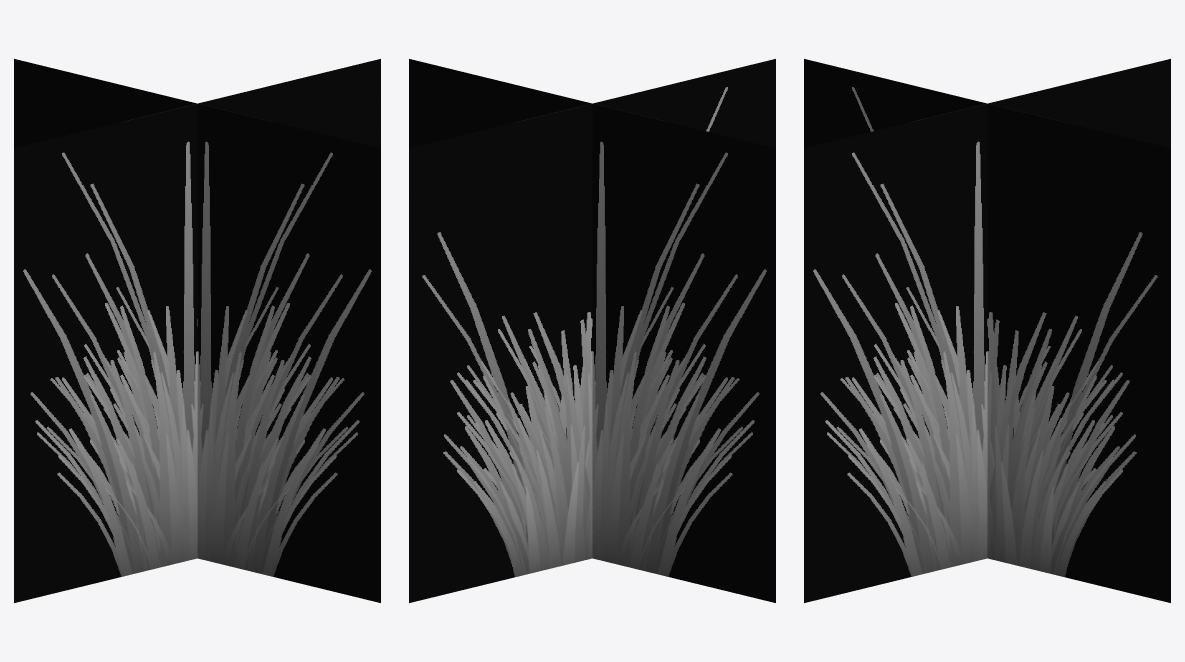
File: Blade_Sedge.glb
The picture shows the model from 3 angles, left to right: view 1: azimuth 30°, elevation 25°; view 2: azimuth 150°, elevation 25°; view 3: azimuth 270°, elevation 25°; orthographic projection.
Parts seen in each view (by area): view 1: Blade_Sedge; view 2: Blade_Sedge; view 3: Blade_Sedge.
Boxes of the visible parts, x1,y1,x2,y2 form: Blade_Sedge: (14, 59, 380, 602); Blade_Sedge: (409, 59, 775, 602); Blade_Sedge: (804, 59, 1170, 602).
Bounding box in the file's own units: 0.3331 × 0.3946 × 0.2885.
Materials: 1 (1 with a texture image).
